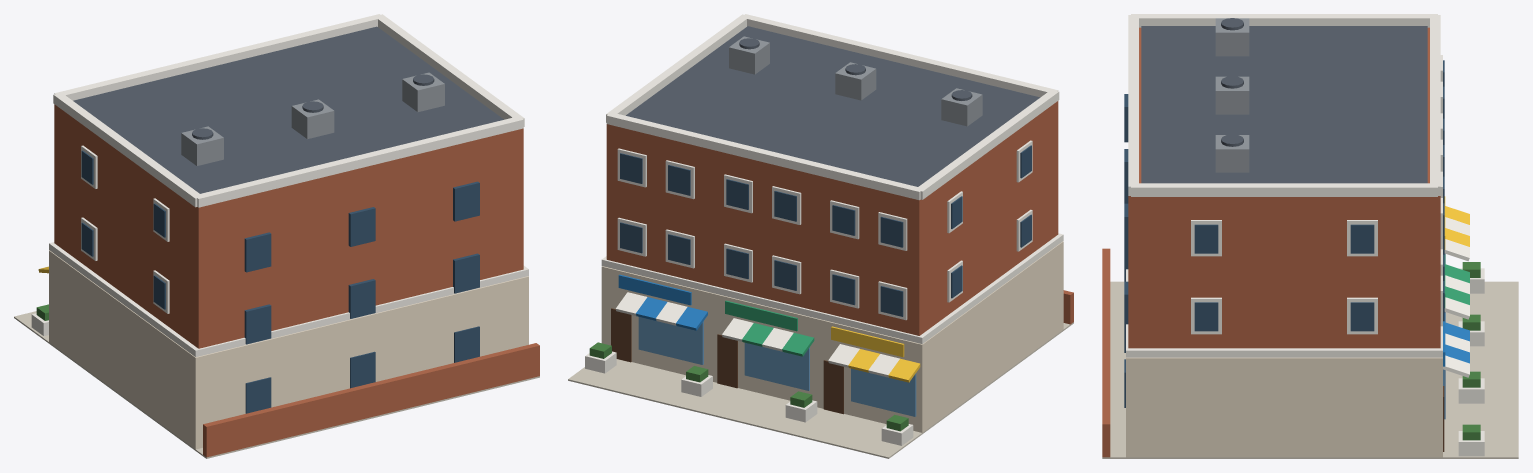
3 renders of one model, left to right at view 1: azimuth 30°, elevation 25°; view 2: azimuth 150°, elevation 25°; view 3: azimuth 270°, elevation 25°, orthographic. The views are drawn at different scales.
Parts seen in each view (by area): view 1: block, shop_base, roof, parapet (×4), yard_wall, window_glass (×9), string_course, ac_unit_body (×3), ground; view 2: block, roof, shop_base, parapet (×4), ground, window_glass (×12), storefront (×3), string_course, ac_unit_body (×3), sign (×3), door (×3), planter (×2) (+1 smaller); view 3: block, roof, shop_base, ground, parapet (×4), ac_unit_body (×3), string_course, window_glass (×4), window_frame (×4), yard_wall, planter (×2).
Boxes of the visible parts, x1,y1,x2,y2 form: block: (54,104,523,348); shop_base: (49,250,528,449); roof: (73,26,503,193); parapet (×4): (53,14,524,207); yard_wall: (203,343,539,457); window_glass (×9): (244,181,479,413); string_course: (49,242,528,356); ac_unit_body (×3): (181,72,444,165); ground: (14,311,539,458); block: (606,101,1058,335); roof: (626,26,1040,186); shop_base: (601,241,1063,432); parapet (×4): (606,14,1059,200); ground: (568,322,1073,458); window_glass (×12): (620,153,903,316); storefront (×3): (638,317,916,416); string_course: (601,233,1063,343); ac_unit_body (×3): (729,36,982,126); sign (×3): (618,274,904,357); door (×3): (611,308,843,414); planter (×2): (785,400,913,445); block: (1128,27,1440,348); roof: (1141,26,1427,183); shop_base: (1126,357,1442,457); ground: (1102,281,1518,458); parapet (×4): (1128,14,1440,196); ac_unit_body (×3): (1215,18,1249,172); string_course: (1126,269,1442,357); window_glass (×4): (1194,224,1374,331); window_frame (×4): (1191,220,1377,334); yard_wall: (1102,248,1110,457); planter (×2): (1458,378,1484,456).
Size of the model in its own units: 16 by 12.31 by 16.
